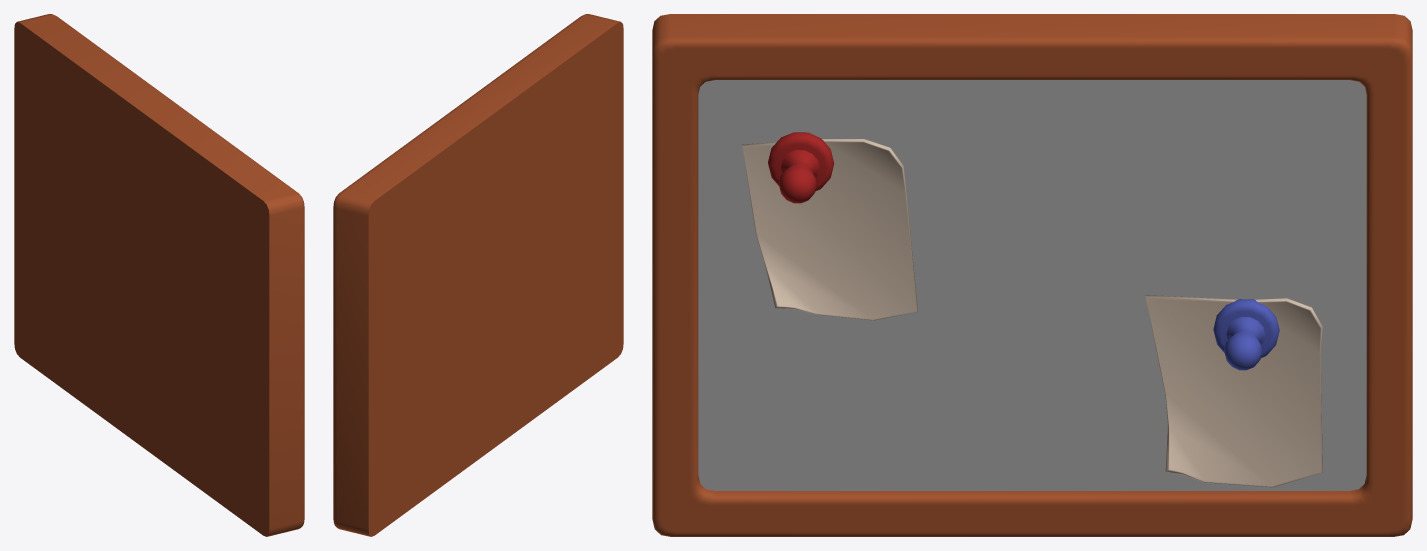
Rendered from Board.FBX.
3 views of the same model, side by side, from view 1: azimuth 30°, elevation 25°; view 2: azimuth 150°, elevation 25°; view 3: azimuth 270°, elevation 25° (orthographic). The views are drawn at different scales.
Parts seen in each view (by area): view 1: Board; view 2: Board; view 3: Board.
Part boxes in pixels (box(x1,y1,x2,y2)): Board: box(14, 14, 304, 536); Board: box(333, 14, 623, 536); Board: box(652, 14, 1412, 536).
Bounding box in the file's own units: 3.4 × 14.34 × 19.81.
